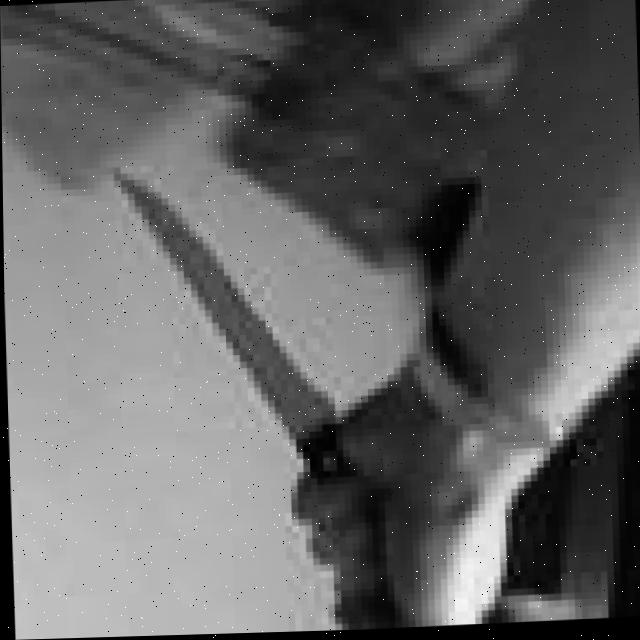knife: (89, 136, 330, 461)
